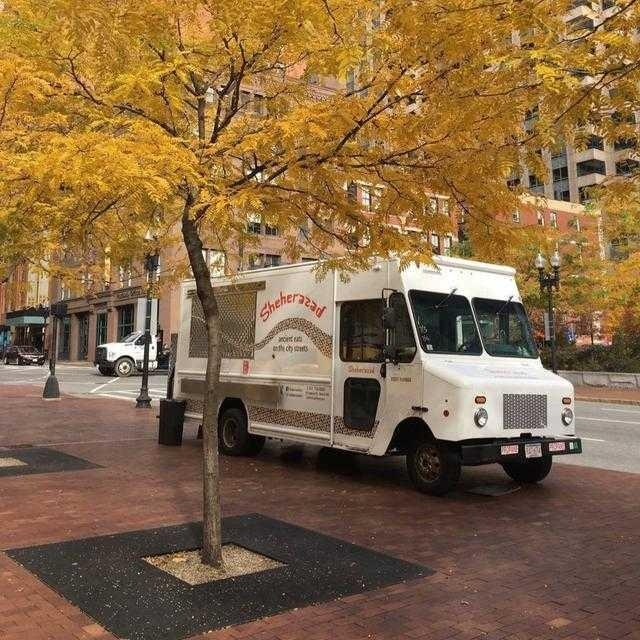Truck: (164, 247, 585, 498)
